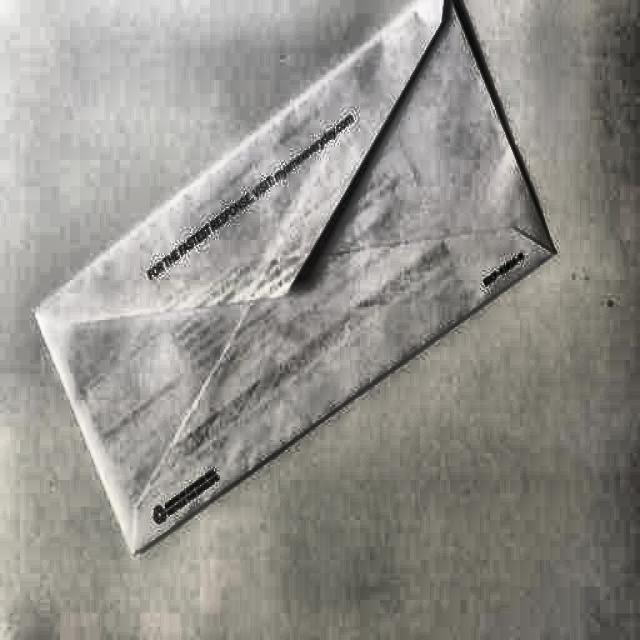paper: (34, 0, 557, 555)
